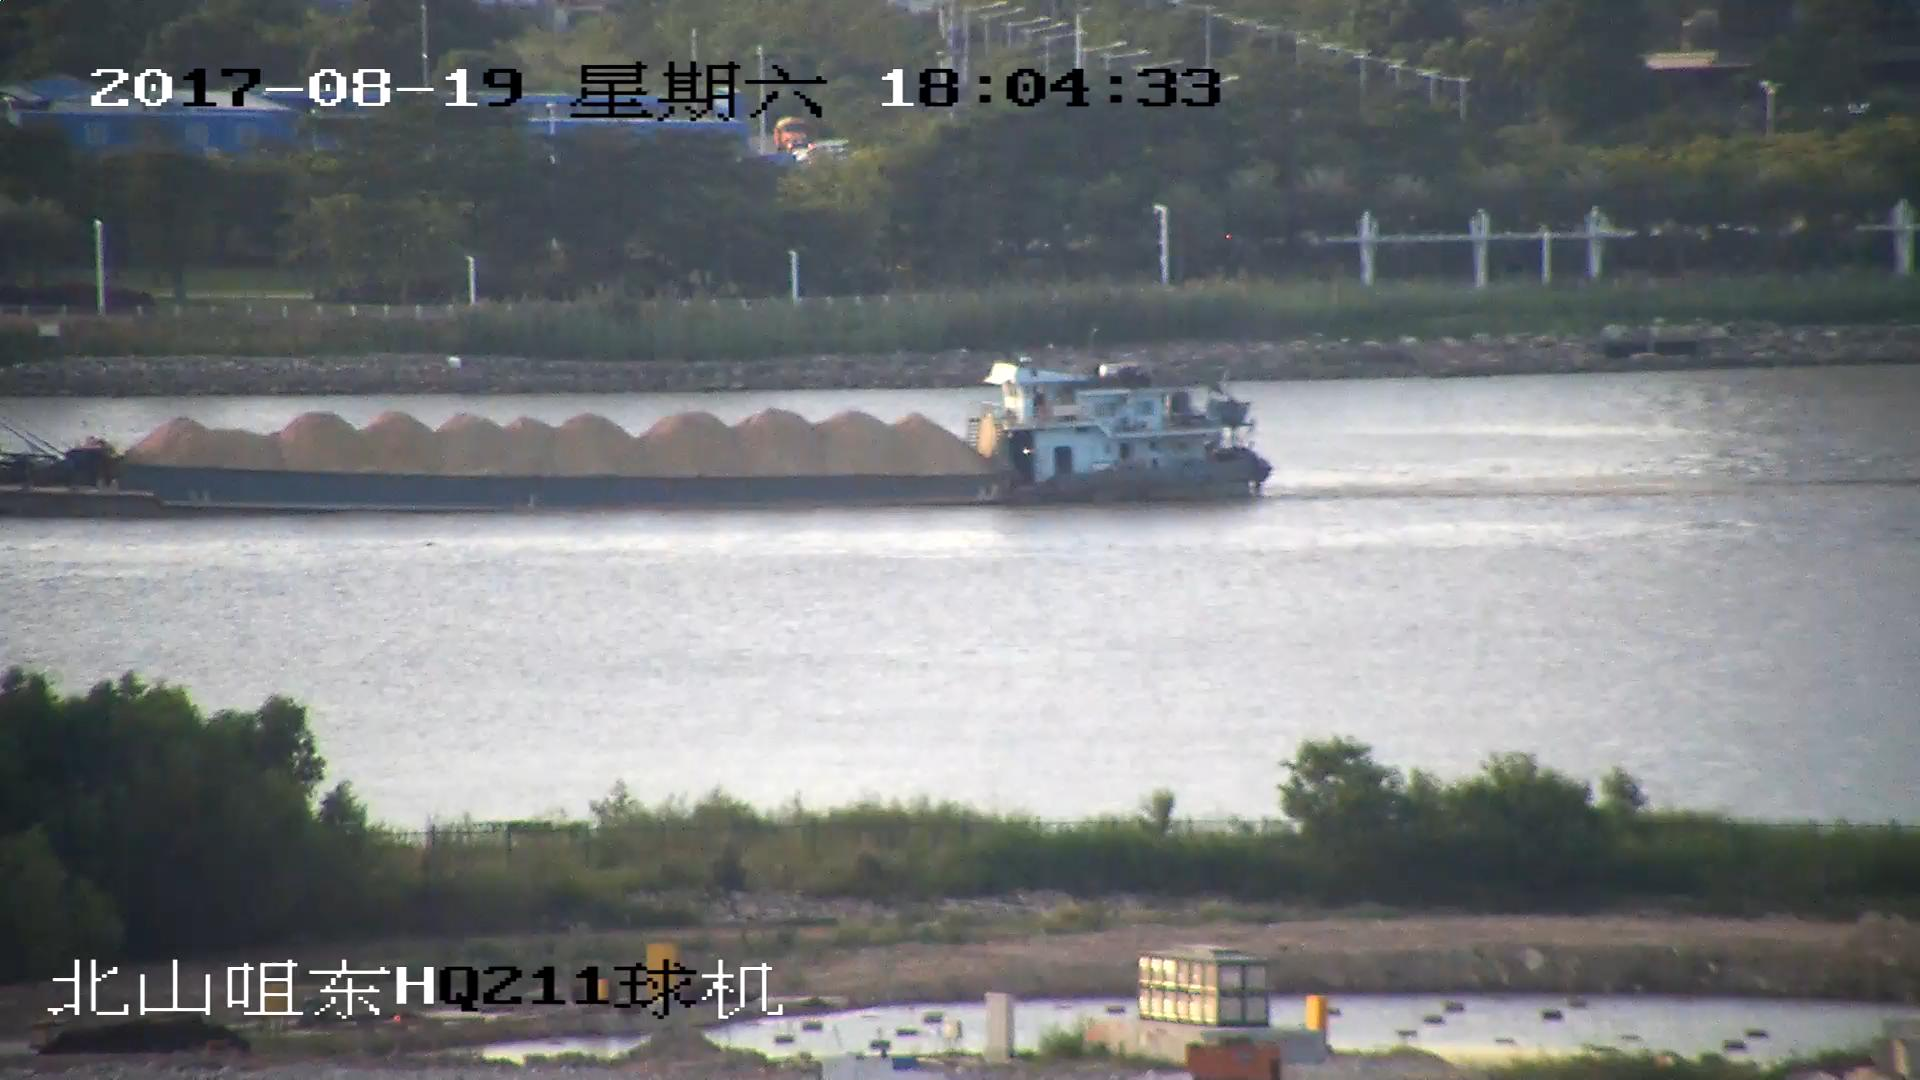ore carrier: (1, 350, 1277, 509)
